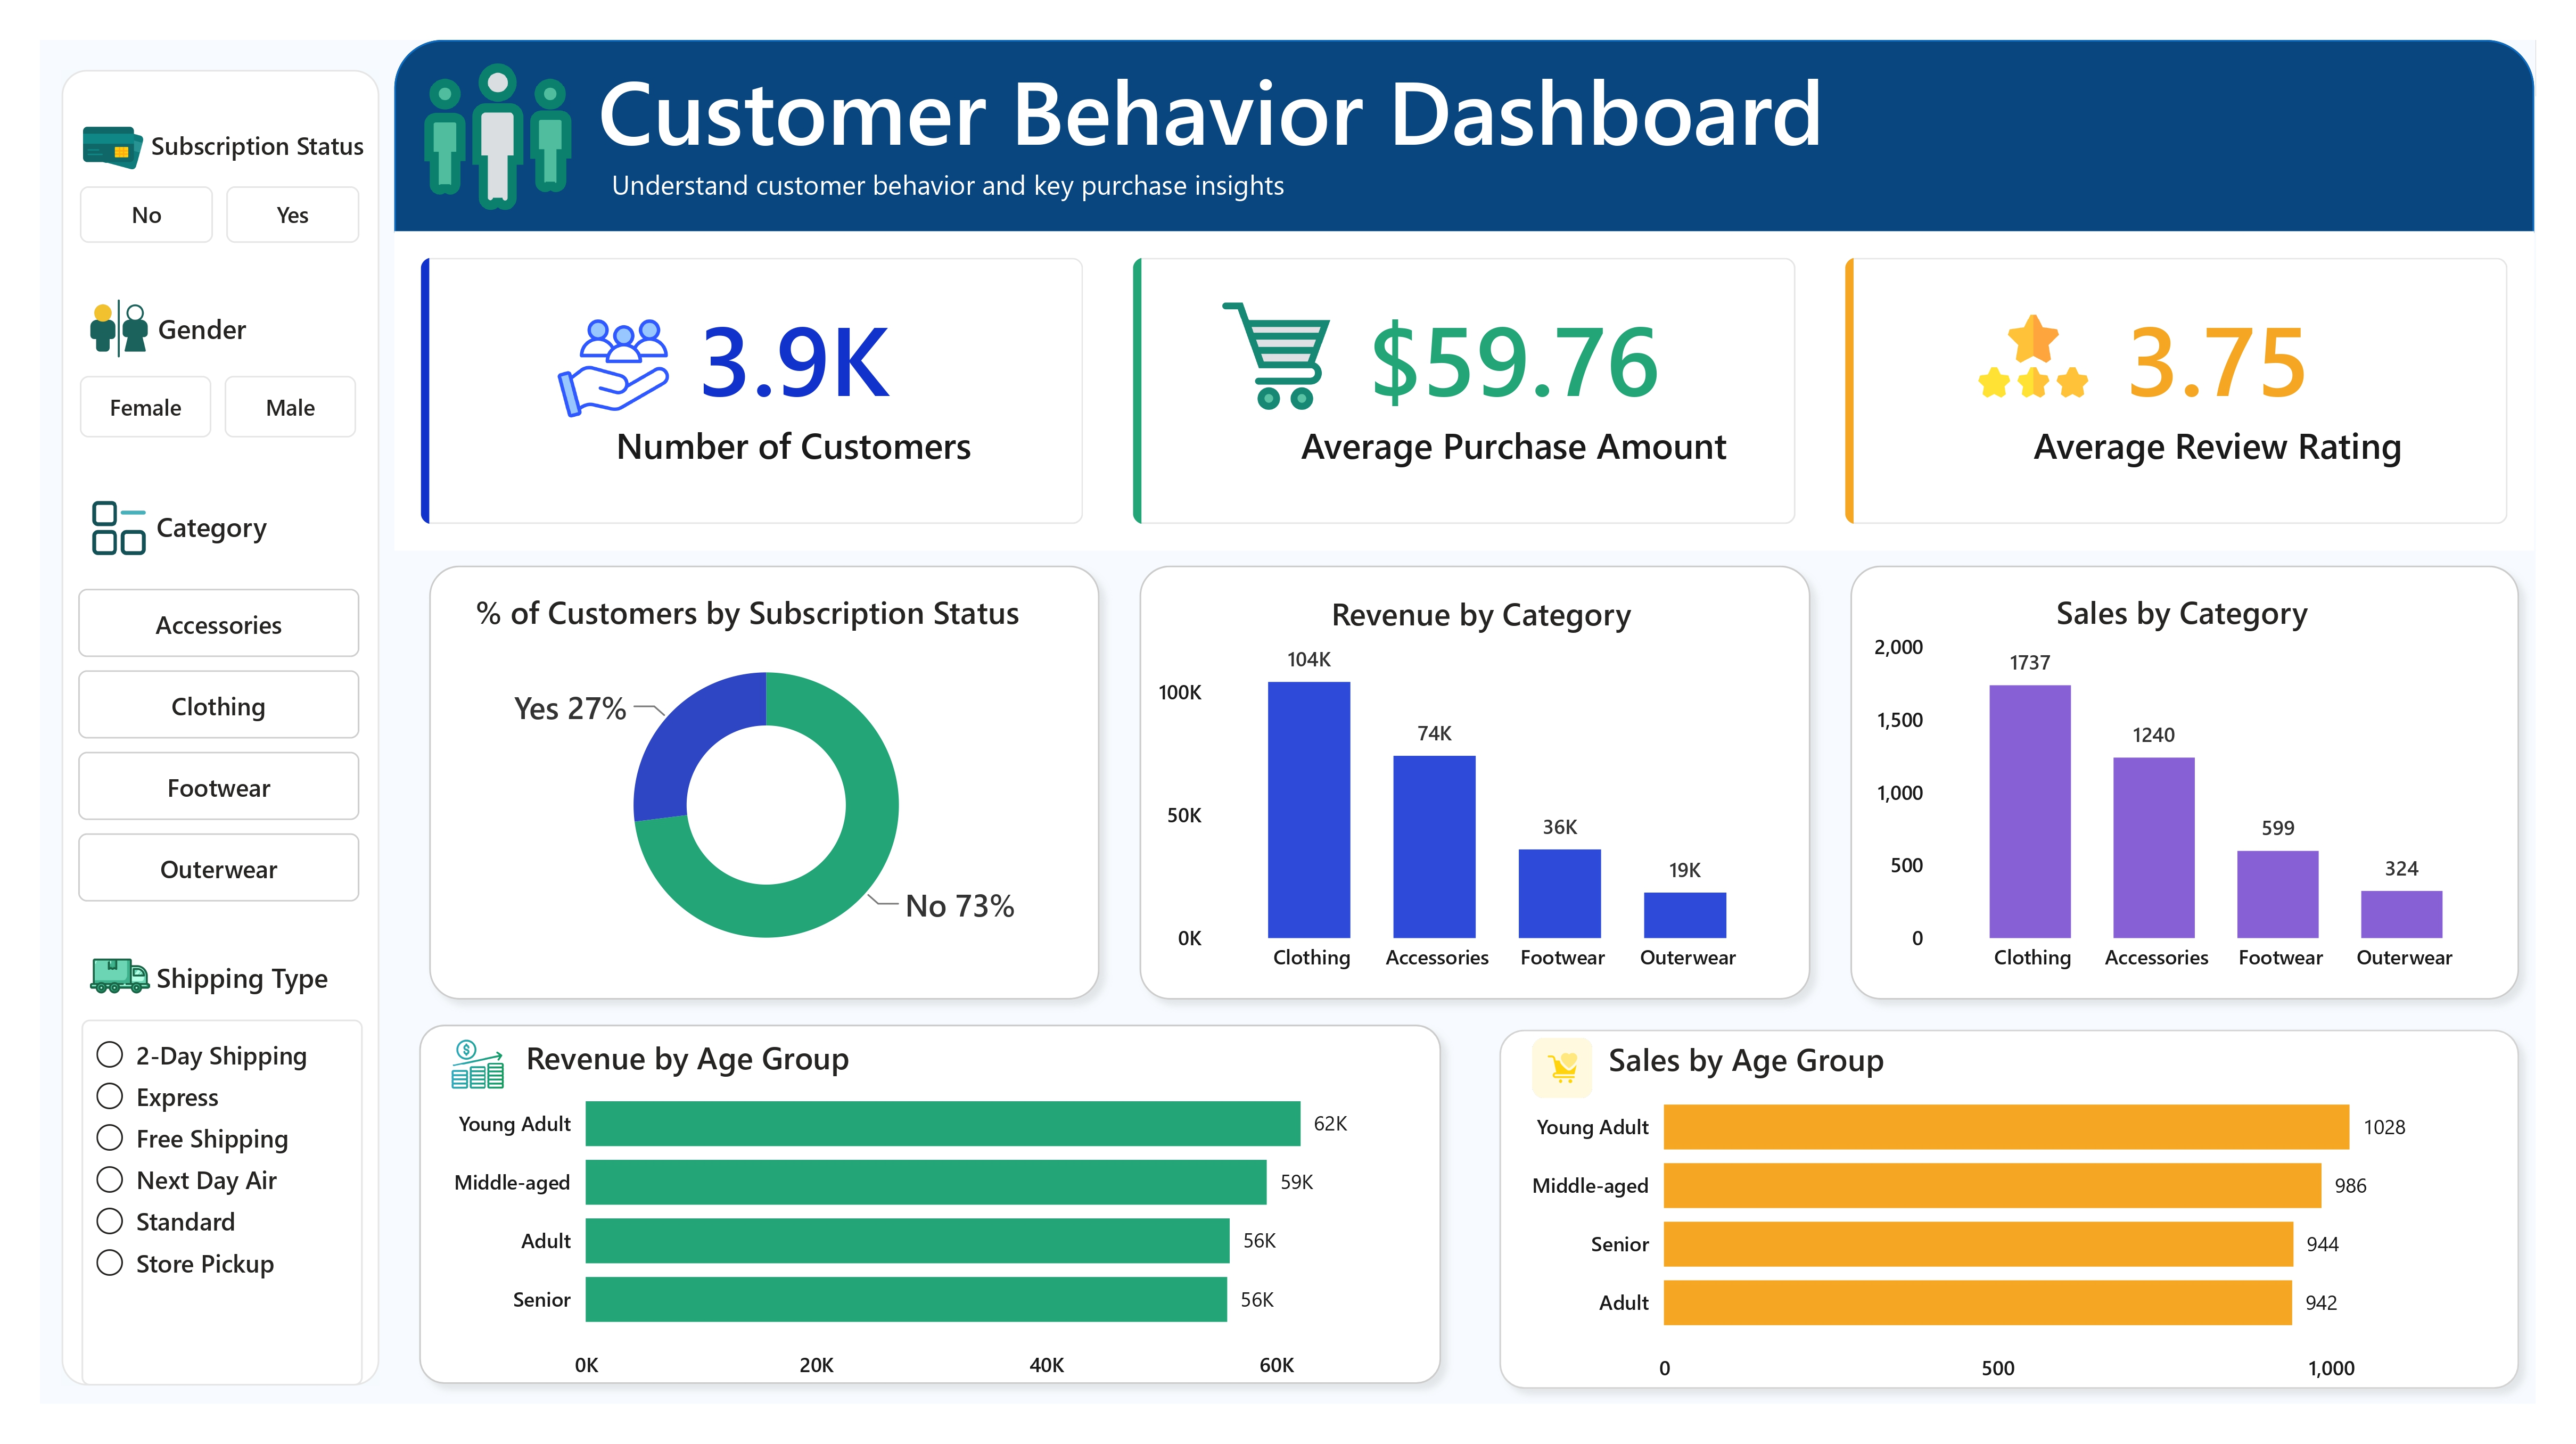

The page's visual inventory and layout, read from the dashboard file:
{"tool":"powerbi","page":{"name":"Customer Behavior Analysis","canvas":[1500,820],"ordinal":0},"visuals":[{"type":"shape","box":[213.3,0,1285.6,115.6],"z":0},{"type":"image","box":[225,8.3,100,100],"z":1000},{"type":"textbox","box":[212.5,0,1287.5,133.8],"z":2000},{"type":"shape","box":[218.6,582.9,631.7,234.2],"z":2500,"group":"g1"},{"type":"shape","box":[12.5,17.5,191.2,791.2],"z":3000},{"type":"advancedSlicerVisual","fields":{"Values":["public customer.subscription_status"]},"box":[18.6,82.5,178.7,44.8],"z":4000},{"type":"image","box":[18.9,42.2,50,46.1],"z":5000},{"type":"advancedSlicerVisual","fields":{"Values":["public customer.gender"]},"box":[18.6,197.1,177.1,47.1],"z":6000},{"type":"image","box":[21.9,150.5,50.5,46.7],"z":7000},{"type":"textbox","box":[62.1,47.9,152.6,30.5],"z":8000},{"type":"textbox","box":[65.8,157.9,77.4,32.1],"z":9000},{"type":"advancedSlicerVisual","fields":{"Values":["public customer.category"]},"box":[18.5,324.6,178.5,201.5],"z":10000},{"type":"image","box":[22.2,270.1,50.5,46.7],"z":11000},{"type":"textbox","box":[65.1,277.5,77.1,31.9],"z":12000},{"type":"listSlicer","fields":{"Values":["public customer.shipping_type"]},"box":[25,588.8,168.6,220],"z":13000},{"type":"image","box":[22.5,539.7,50.5,46.7],"z":14000},{"type":"textbox","box":[65,547.5,128.8,31.2],"z":15000},{"type":"cardVisual","fields":{"Data":["public customer.Number of Customers","public customer.Average Purchase Amount","public customer.Average Review Rating"]},"box":[212.9,115.3,1286.5,191.6],"z":16000},{"type":"shape","box":[867.7,585.6,631.7,234.2],"z":17000},{"type":"clusteredBarChart","title":"Revenue by Age Group","fields":{"Y":["Sum(public customer.purchase_amount)"],"Category":["public customer.age_group"]},"box":[242.1,610.5,585.6,204.1],"z":17500,"group":"g1"},{"type":"clusteredBarChart","title":"Sales by Age Group","fields":{"Y":["CountNonNull(public customer.customer_id)"],"Category":["public customer.age_group"]},"box":[890,612.9,585.6,204.1],"z":18000},{"type":"textbox","box":[938.5,594.6,266,43],"z":19000},{"type":"group","id":"g1","title":"Group 1","box":[218.6,582.9,631.4,234.3],"z":20000},{"type":"textbox","box":[287.1,594.3,266,43],"z":21000},{"type":"shape","box":[1078.9,307,420.5,278.6],"z":22000},{"type":"clusteredColumnChart","title":"Sales by Category","fields":{"Y":["CountNonNull(public customer.customer_id)"],"Category":["public customer.category"]},"box":[1096.7,350,385.6,220],"z":23000},{"type":"shape","box":[652.1,307,420.5,278.6],"z":24000},{"type":"clusteredColumnChart","title":"Revenue by Category","fields":{"Y":["Sum(public customer.purchase_amount)"],"Category":["public customer.category"]},"box":[666.7,347.8,385.6,222.2],"z":25000},{"type":"shape","box":[225.4,307,420.5,278.6],"z":26000},{"type":"donutChart","title":"% of Customers by Subscription Status","fields":{"Category":["public customer.subscription_status"],"Y":["CountNonNull(public customer.customer_id)"]},"box":[248.9,350,375.6,220],"z":27000},{"type":"textbox","box":[1206.7,325.6,165.6,43.3],"z":28000},{"type":"textbox","box":[771.1,326.7,193.3,43.3],"z":29000},{"type":"textbox","box":[256.7,325.6,358.9,43.3],"z":30000},{"type":"image","box":[890,594.7,50.5,46.7],"z":31000},{"type":"image","box":[237.3,592.7,50.5,46.7],"z":32000},{"type":"image","box":[1154.5,151.8,85,76.2],"z":33000},{"type":"image","box":[700,151.8,85,76],"z":34000},{"type":"image","box":[301.4,158.6,85.7,77.1],"z":35000}]}

Visuals, with their boxes on the page's 1500x820 design canvas (x1, y1, x2, y2). These are canvas units, not pixel positions in the 2576x1444 screenshot, which may show the page scaled, cropped or inside an application window:
shape: x1=213 y1=0 x2=1499 y2=116
image: x1=225 y1=8 x2=325 y2=108
textbox: x1=212 y1=0 x2=1500 y2=134
shape: x1=219 y1=583 x2=850 y2=817
shape: x1=12 y1=18 x2=204 y2=809
advancedSlicerVisual - public customer.subscription_status: x1=19 y1=82 x2=197 y2=127
image: x1=19 y1=42 x2=69 y2=88
advancedSlicerVisual - public customer.gender: x1=19 y1=197 x2=196 y2=244
image: x1=22 y1=150 x2=72 y2=197
textbox: x1=62 y1=48 x2=215 y2=78
textbox: x1=66 y1=158 x2=143 y2=190
advancedSlicerVisual - public customer.category: x1=18 y1=325 x2=197 y2=526
image: x1=22 y1=270 x2=73 y2=317
textbox: x1=65 y1=278 x2=142 y2=309
listSlicer - public customer.shipping_type: x1=25 y1=589 x2=194 y2=809
image: x1=22 y1=540 x2=73 y2=586
textbox: x1=65 y1=548 x2=194 y2=579
cardVisual - public customer.Number of Customers x public customer.Average Purchase Amount: x1=213 y1=115 x2=1499 y2=307
shape: x1=868 y1=586 x2=1499 y2=820
"Revenue by Age Group" clusteredBarChart: x1=242 y1=610 x2=828 y2=815
"Sales by Age Group" clusteredBarChart: x1=890 y1=613 x2=1476 y2=817
textbox: x1=938 y1=595 x2=1204 y2=638
"Group 1" group: x1=219 y1=583 x2=850 y2=817
textbox: x1=287 y1=594 x2=553 y2=637
shape: x1=1079 y1=307 x2=1499 y2=586
"Sales by Category" clusteredColumnChart: x1=1097 y1=350 x2=1482 y2=570
shape: x1=652 y1=307 x2=1073 y2=586
"Revenue by Category" clusteredColumnChart: x1=667 y1=348 x2=1052 y2=570
shape: x1=225 y1=307 x2=646 y2=586
"% of Customers by Subscription Status" donutChart: x1=249 y1=350 x2=624 y2=570
textbox: x1=1207 y1=326 x2=1372 y2=369
textbox: x1=771 y1=327 x2=964 y2=370
textbox: x1=257 y1=326 x2=616 y2=369
image: x1=890 y1=595 x2=940 y2=641
image: x1=237 y1=593 x2=288 y2=639
image: x1=1154 y1=152 x2=1240 y2=228
image: x1=700 y1=152 x2=785 y2=228
image: x1=301 y1=159 x2=387 y2=236
